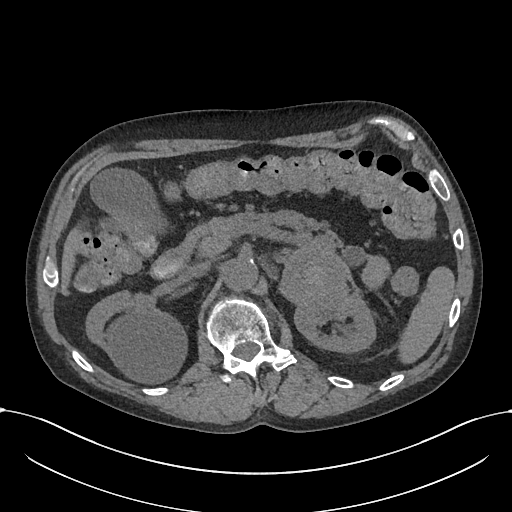Lesion: (274, 241, 360, 315)
